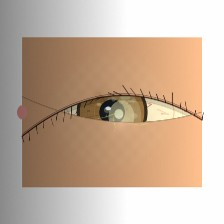corneal_ulcer: (95, 95, 148, 138)
